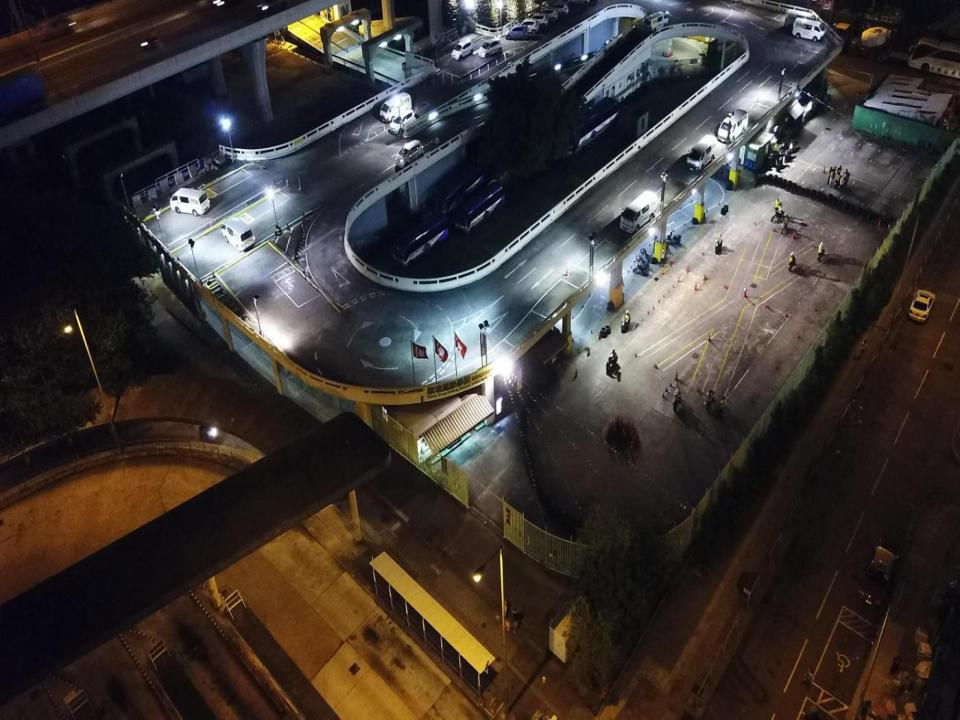bus: (558, 96, 620, 154), (392, 213, 449, 267), (434, 162, 486, 214), (455, 179, 504, 234), (907, 34, 955, 80)
car: (858, 545, 899, 608), (909, 289, 936, 324), (395, 140, 424, 167), (390, 109, 417, 134), (451, 38, 475, 61), (479, 36, 501, 58), (505, 24, 529, 40), (518, 19, 538, 33), (538, 8, 558, 21), (549, 2, 569, 15), (528, 14, 548, 26)
truck: (830, 22, 893, 61)
van: (619, 190, 658, 234), (687, 134, 717, 173), (219, 219, 256, 250), (169, 188, 210, 215), (718, 108, 749, 142), (380, 92, 412, 120), (793, 18, 827, 41), (784, 9, 816, 30), (644, 12, 668, 29)
